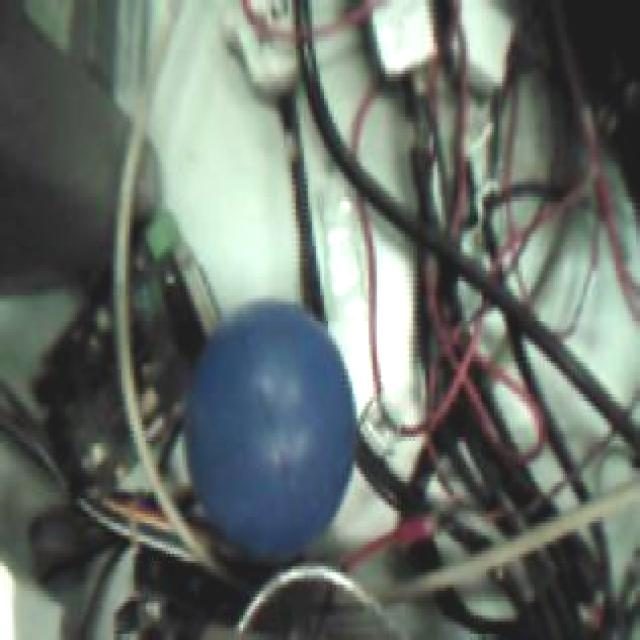BallPurple: (186, 298, 357, 558)
